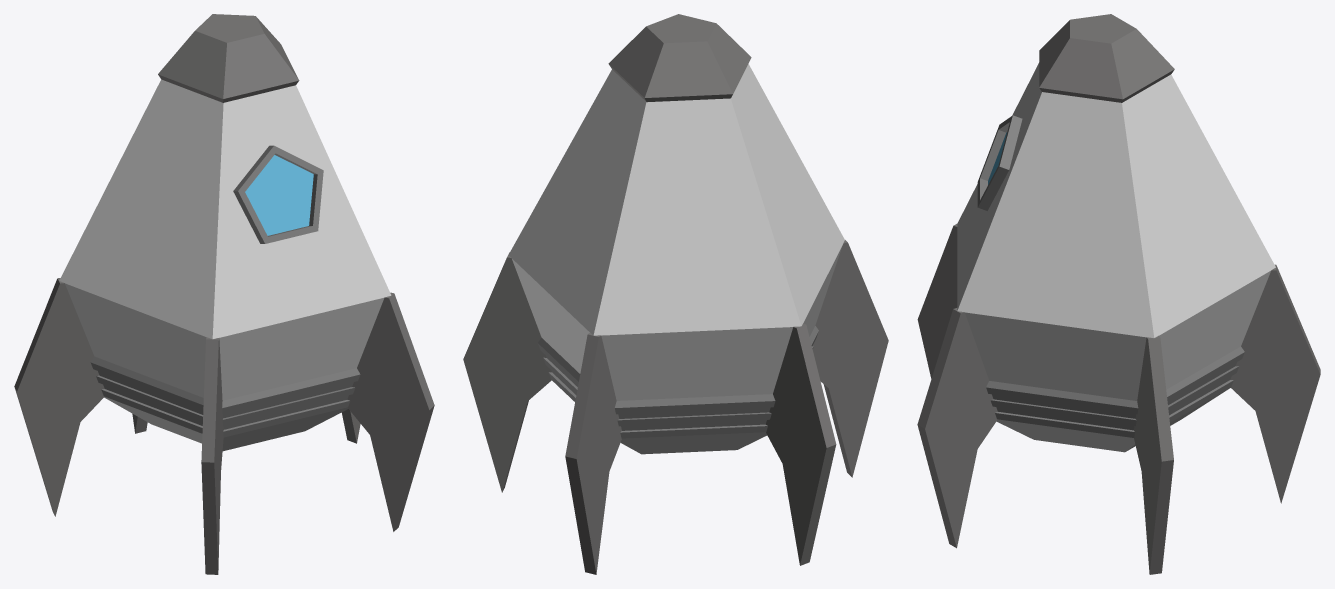
The model's file is RocketGray.fbx.
The picture shows the model from 3 angles, left to right: view 1: azimuth 30°, elevation 25°; view 2: azimuth 150°, elevation 25°; view 3: azimuth 270°, elevation 25°; orthographic projection.
Parts seen in each view (by area): view 1: RocketNose; view 2: RocketNose; view 3: RocketNose.
Part boxes in pixels (x1,y1,x2,y2): RocketNose: (14,14,434,574); RocketNose: (463,14,888,574); RocketNose: (917,14,1320,574).
Size of the model in its own units: 327 by 402 by 311.
